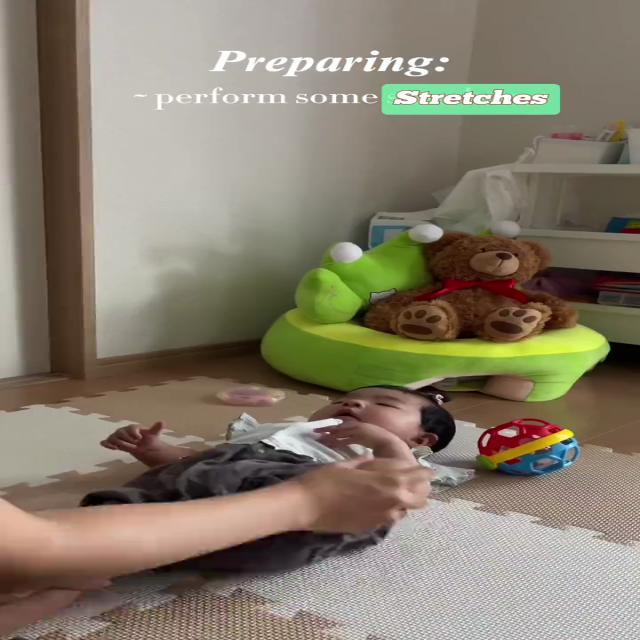baby: (62, 376, 457, 587)
